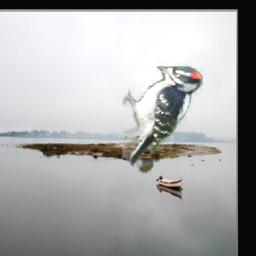Woodpecker: (124, 63, 204, 168)
